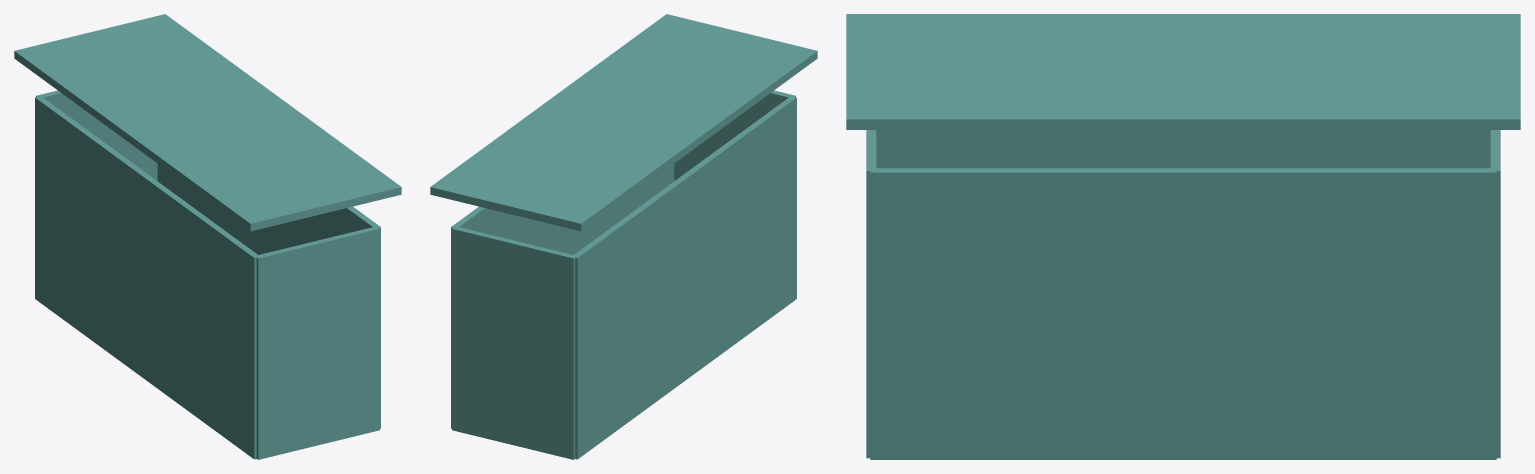
The model's file is SM_Cart_SorbetesGlass_01.fbx.
3 renders of one model, left to right at view 1: azimuth 30°, elevation 25°; view 2: azimuth 150°, elevation 25°; view 3: azimuth 270°, elevation 25°, orthographic. The views are drawn at different scales.
Visible parts, largest first — view 1: SM_Cart_SorbetesGlass_01; view 2: SM_Cart_SorbetesGlass_01; view 3: SM_Cart_SorbetesGlass_01.
Boxes of the visible parts, x1=… form: SM_Cart_SorbetesGlass_01: x1=14, y1=14, x2=401, y2=459; SM_Cart_SorbetesGlass_01: x1=430, y1=14, x2=817, y2=459; SM_Cart_SorbetesGlass_01: x1=846, y1=14, x2=1520, y2=459.
Size of the model in its own units: 0.248 by 0.384 by 0.672.
1 material, 1 textured.
